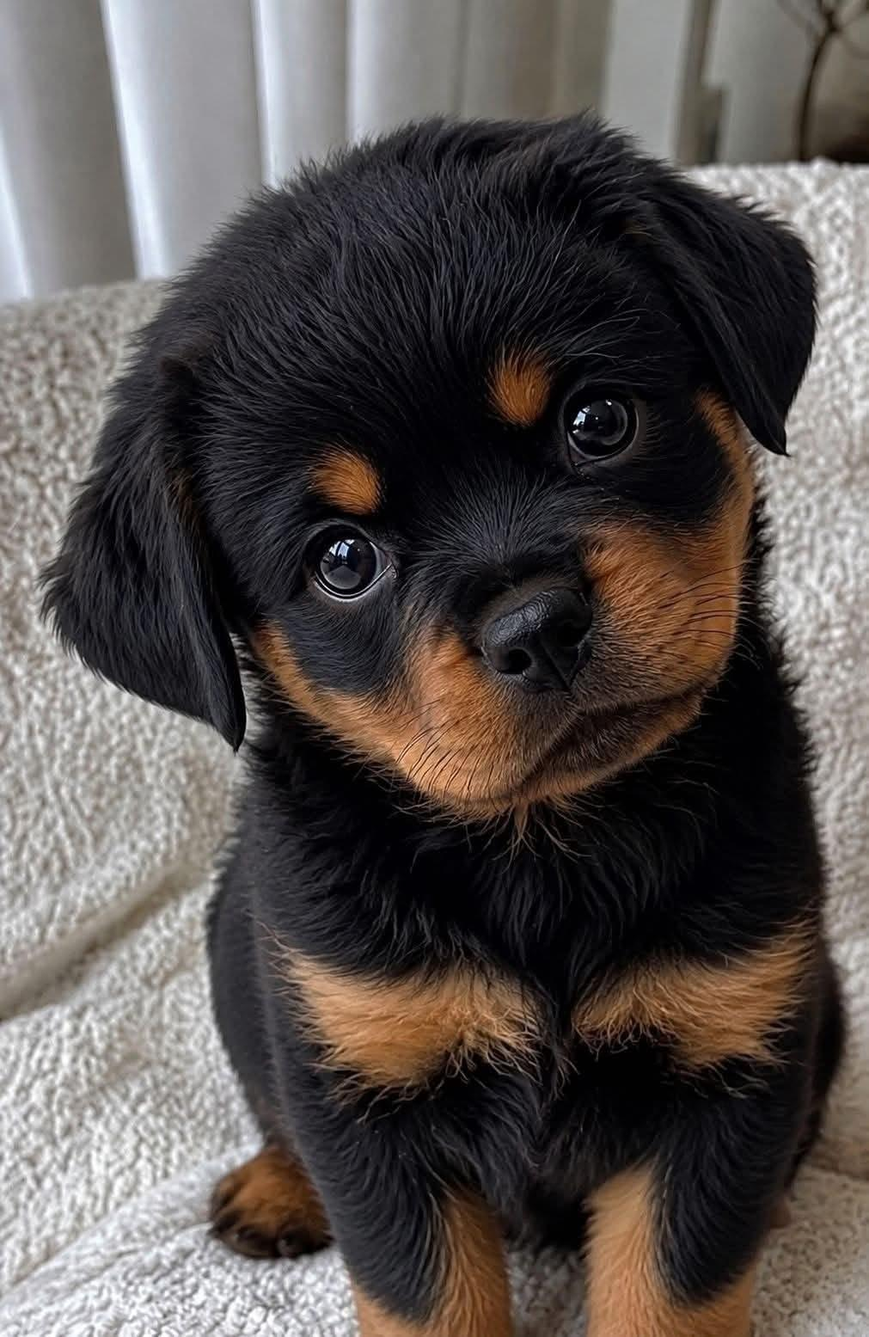puppy-dog: (36, 105, 847, 1337)
